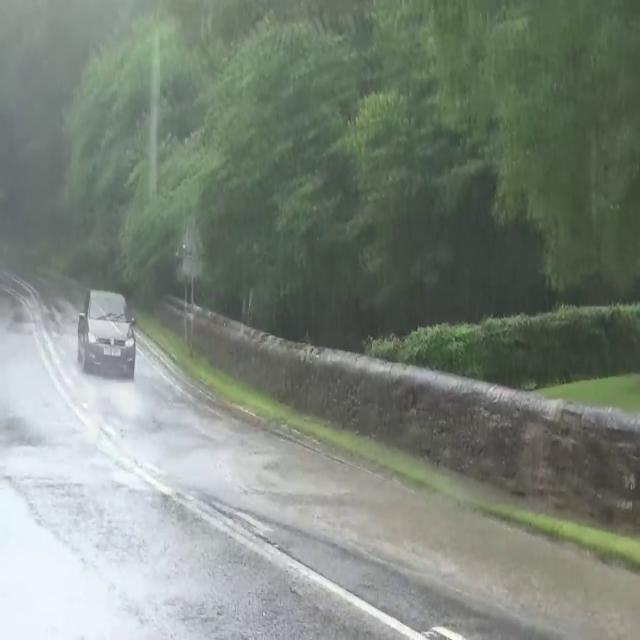license-plate-annotation: (101, 346, 124, 358)
